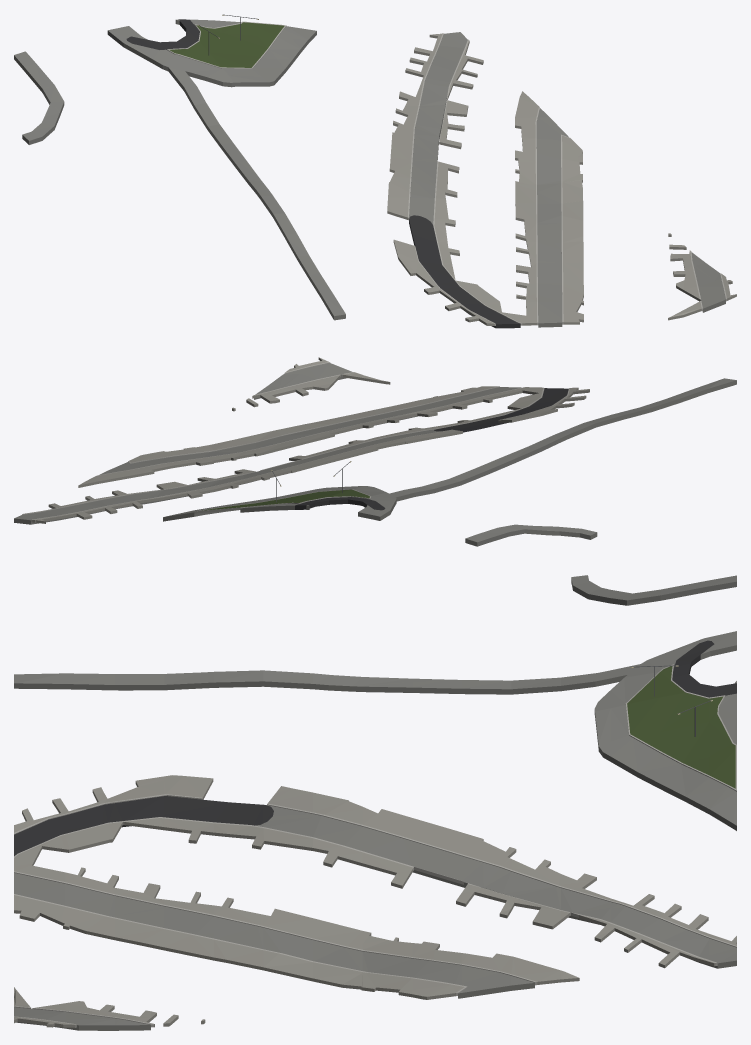
3 views of the same model, one above another, from view 1: azimuth 30°, elevation 25°; view 2: azimuth 150°, elevation 25°; view 3: azimuth 270°, elevation 25° (orthographic). The views are drawn at different scales.
Bounding box in the file's own units: 147 × 43.9 × 146.
